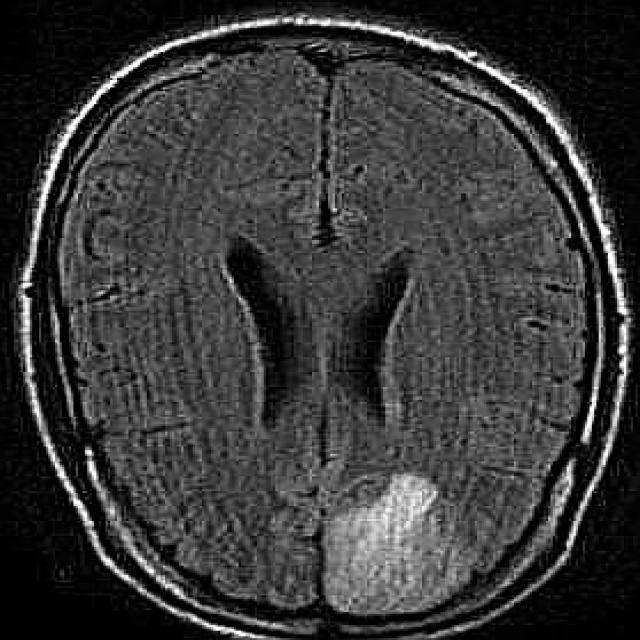Tumor-Cell: (322, 481, 479, 597)
